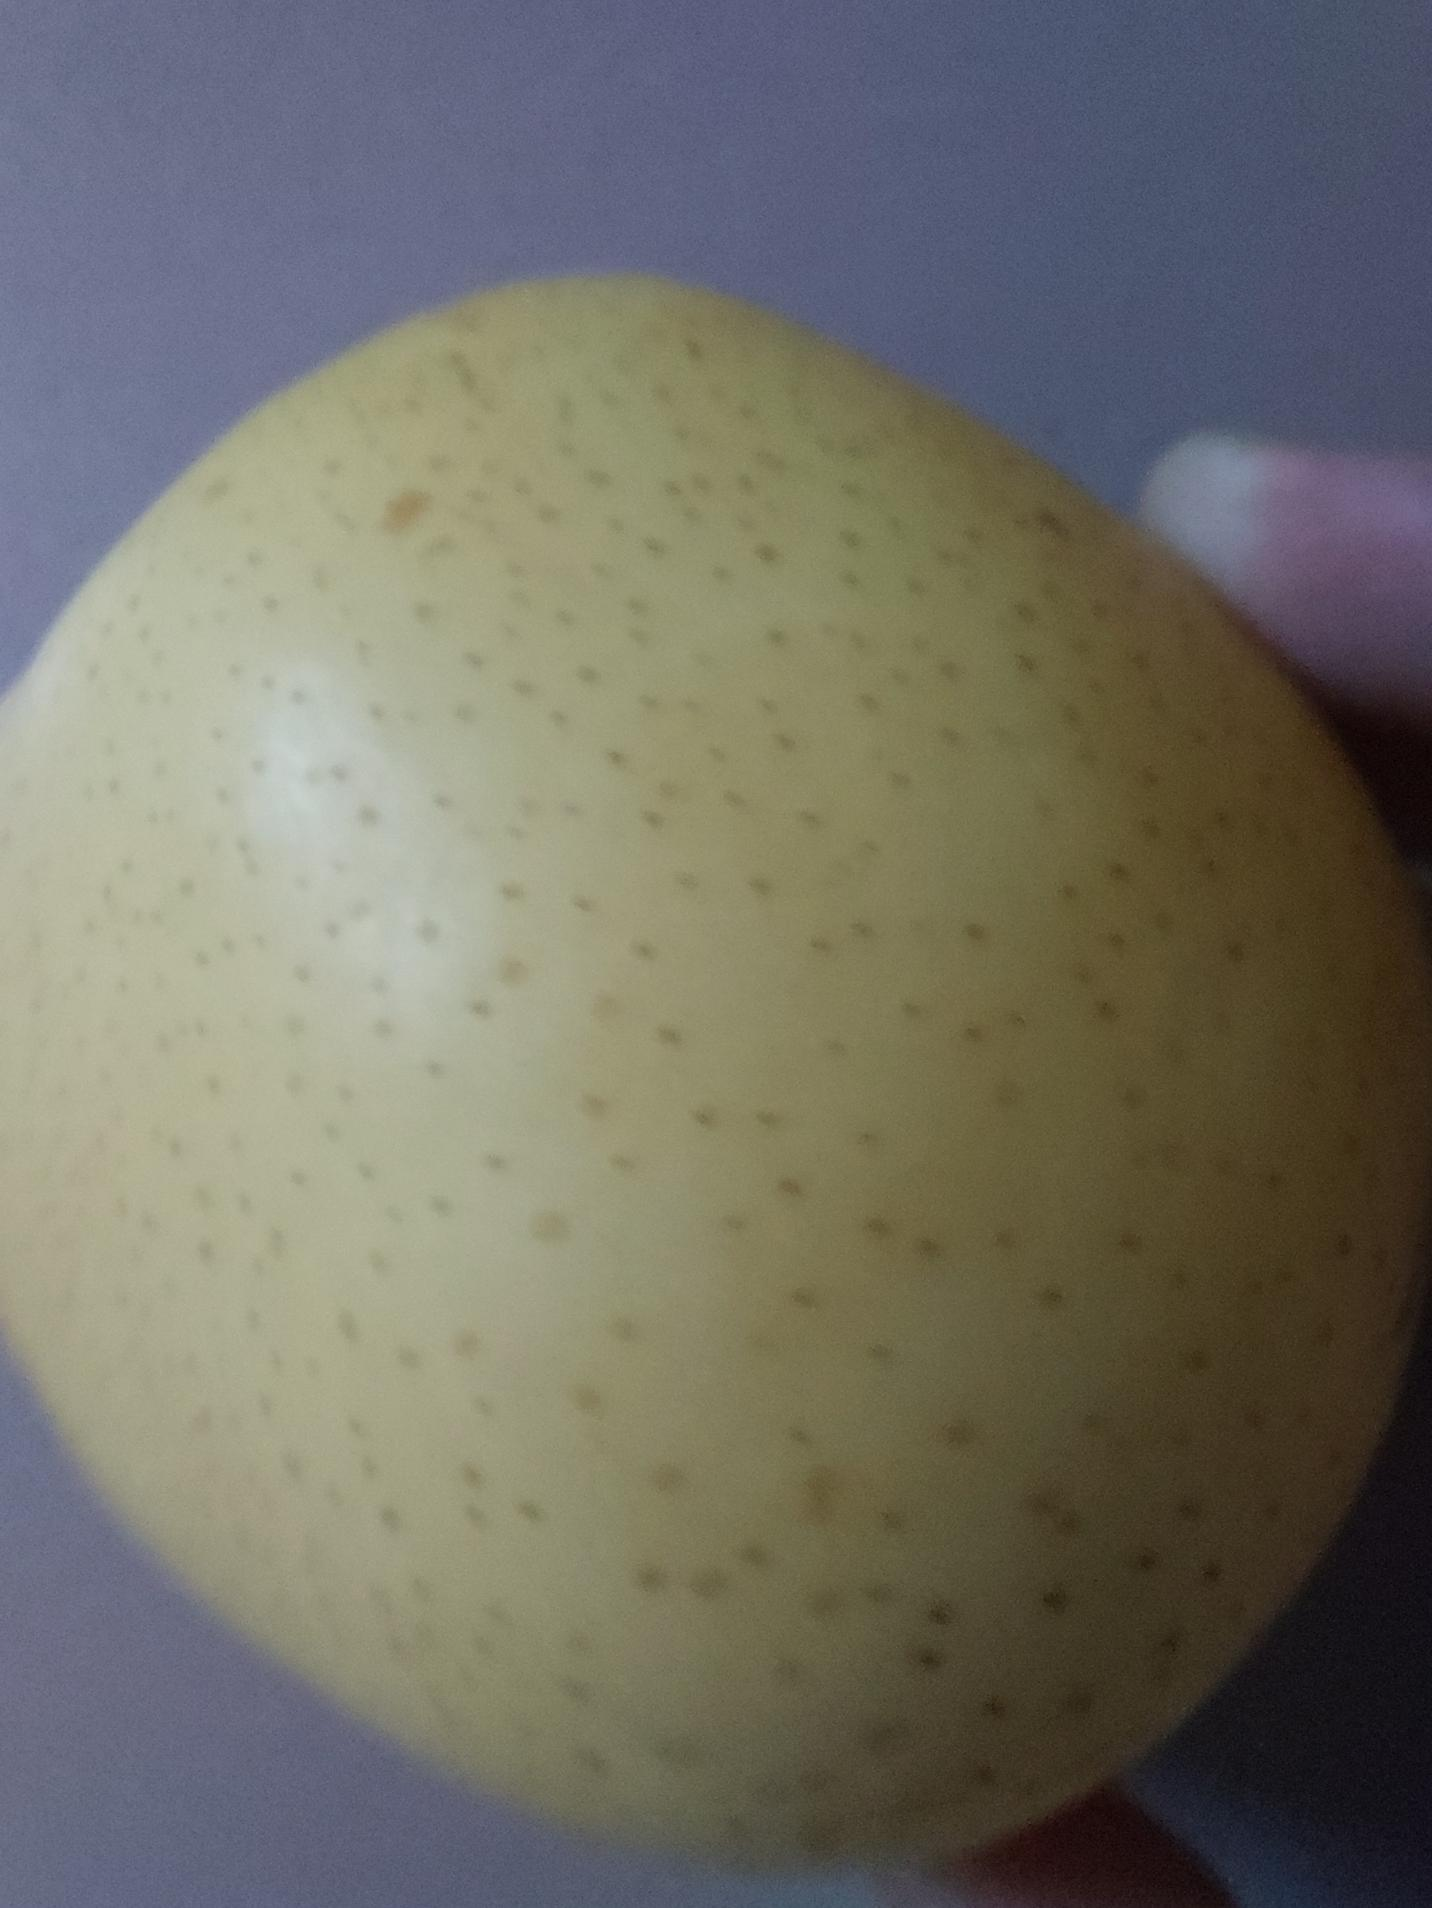Good Pear: (0, 272, 1432, 1890)
